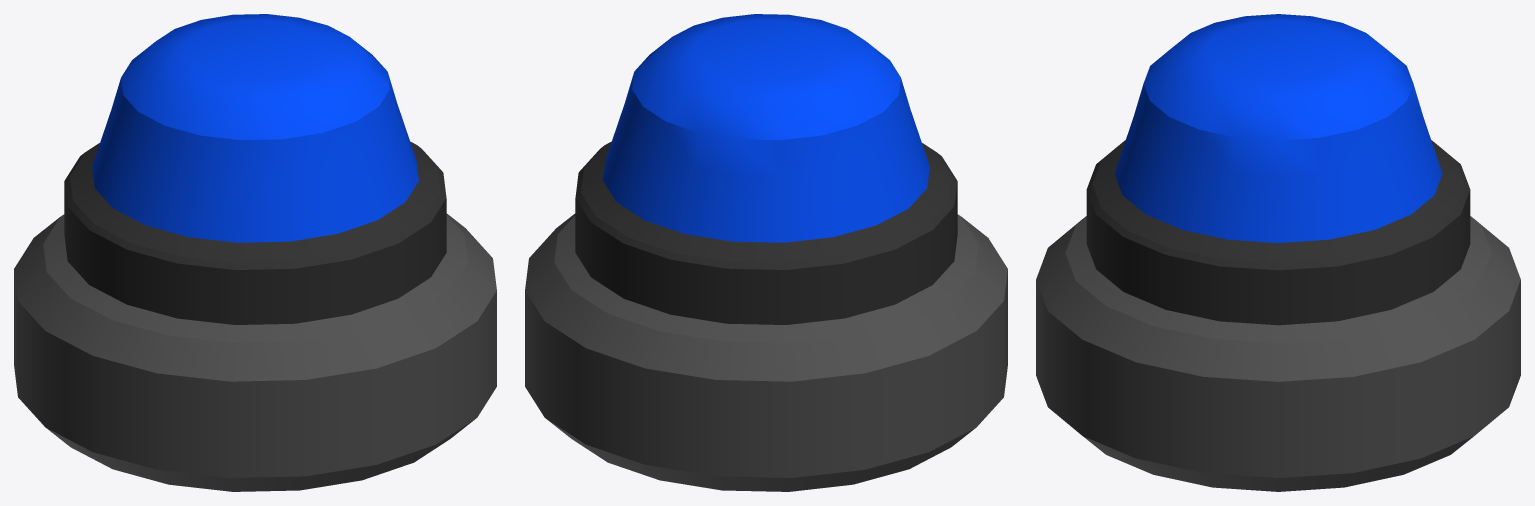
File: SM_LED_Bleufonce.fbx
The picture shows the model from 3 angles, left to right: view 1: azimuth 30°, elevation 25°; view 2: azimuth 150°, elevation 25°; view 3: azimuth 270°, elevation 25°; orthographic projection.
Parts seen in each view (by area): view 1: pCylinder5; view 2: pCylinder5; view 3: pCylinder5.
Boxes of the visible parts, <box> form: pCylinder5: <box>14,14,496,491</box>; pCylinder5: <box>525,14,1007,491</box>; pCylinder5: <box>1036,14,1520,491</box>.
Size of the model in its own units: 0.5123 by 0.4089 by 0.5123.
